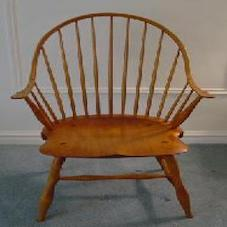chair: (12, 8, 216, 223)
